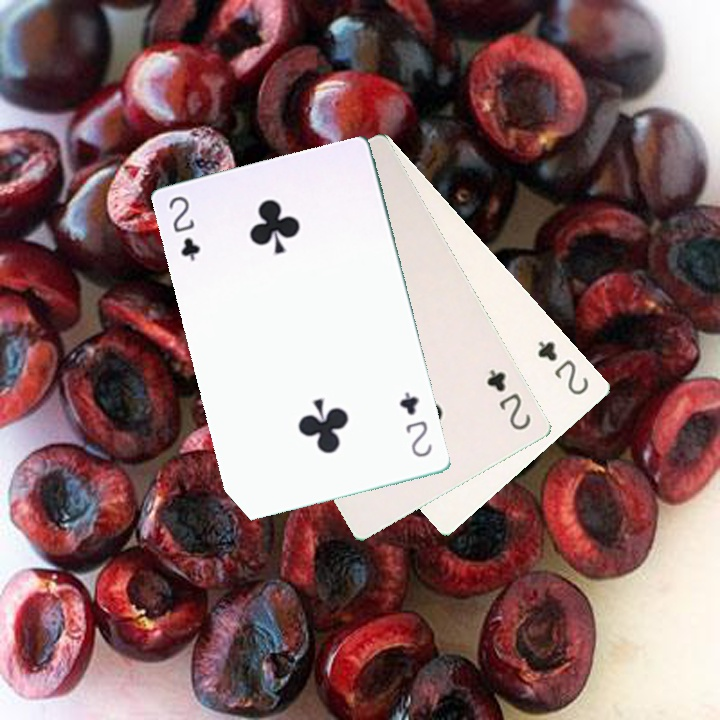2c: (533, 336, 592, 398), (482, 365, 534, 433), (395, 388, 435, 460), (164, 192, 203, 264)
